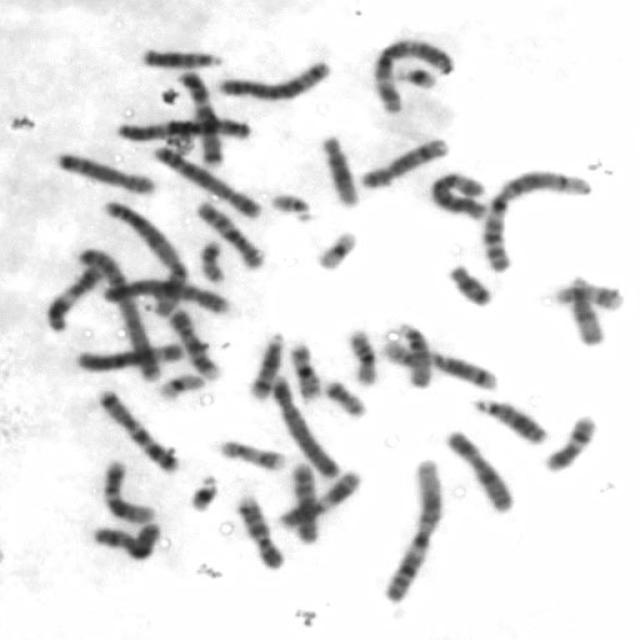A1: (476, 166, 594, 274), (368, 460, 452, 606)
A2: (72, 243, 162, 382), (99, 197, 189, 317)
A3: (368, 34, 453, 116), (112, 114, 254, 144)
B4: (268, 372, 342, 479), (95, 274, 234, 317)
B5: (148, 141, 264, 220), (212, 56, 334, 102)
C10: (192, 196, 266, 271), (288, 459, 328, 548)
C11: (274, 467, 364, 530), (41, 262, 105, 332)
C12: (99, 456, 156, 523), (542, 412, 596, 474)
C6: (71, 337, 185, 373), (425, 168, 493, 222)
C7: (94, 385, 181, 475), (174, 66, 225, 168)
C8: (355, 133, 450, 189), (52, 147, 156, 196)
C9: (165, 304, 221, 382), (232, 490, 286, 570)
D13: (469, 395, 550, 446), (138, 44, 224, 71)
D14: (425, 349, 500, 391), (245, 328, 286, 401)
D15: (564, 270, 608, 348), (392, 316, 433, 389)
E16: (285, 337, 324, 403), (344, 324, 380, 386)
E17: (549, 276, 625, 312), (215, 436, 287, 472)
E18: (317, 138, 358, 211), (444, 260, 494, 308)
F19: (310, 225, 361, 273), (154, 369, 206, 402)
F20: (320, 375, 366, 419), (195, 238, 226, 284)
G21: (184, 469, 220, 514), (391, 62, 439, 91)
G22: (267, 189, 315, 224), (373, 340, 422, 370)
X: (443, 428, 515, 514), (91, 518, 161, 561)
